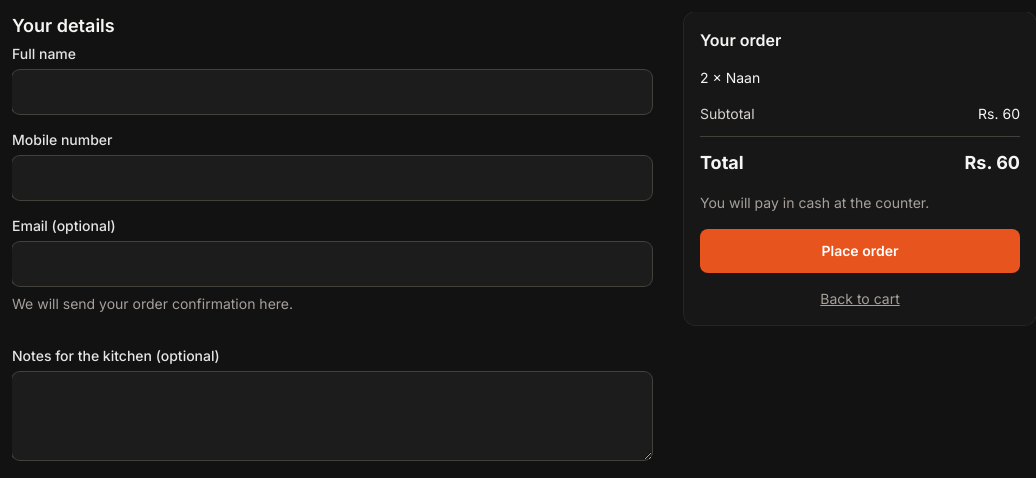
retrying safely › keeps the cart after a failure so nothing is lost
Expected: the button "Place order" is enabled, [700,229,1020,273]
Step 1. Type "Ali Khan" into the field labelled "Full name" → (332, 92), box [12,70,652,114]
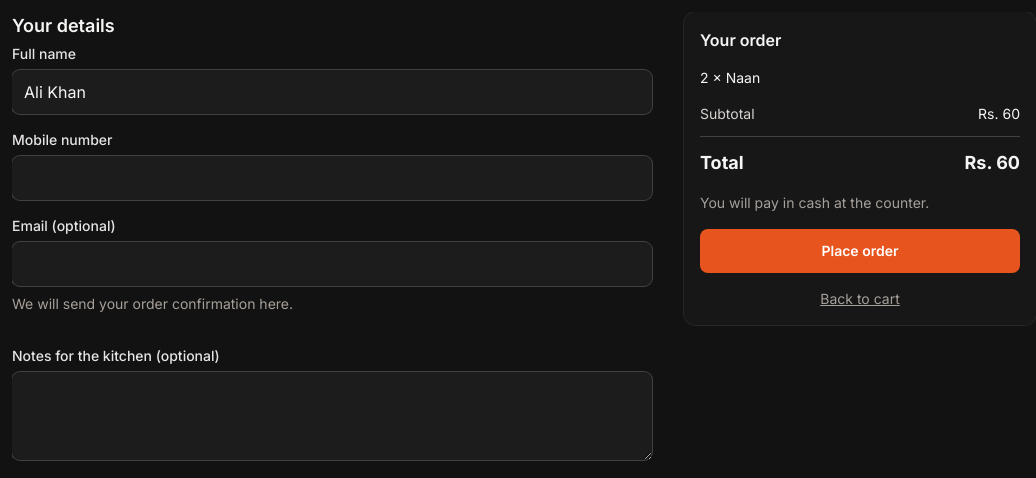
Step 2. Type "0300-123 4567" into the field labelled "Mobile number" → (332, 178), box [12,156,652,200]
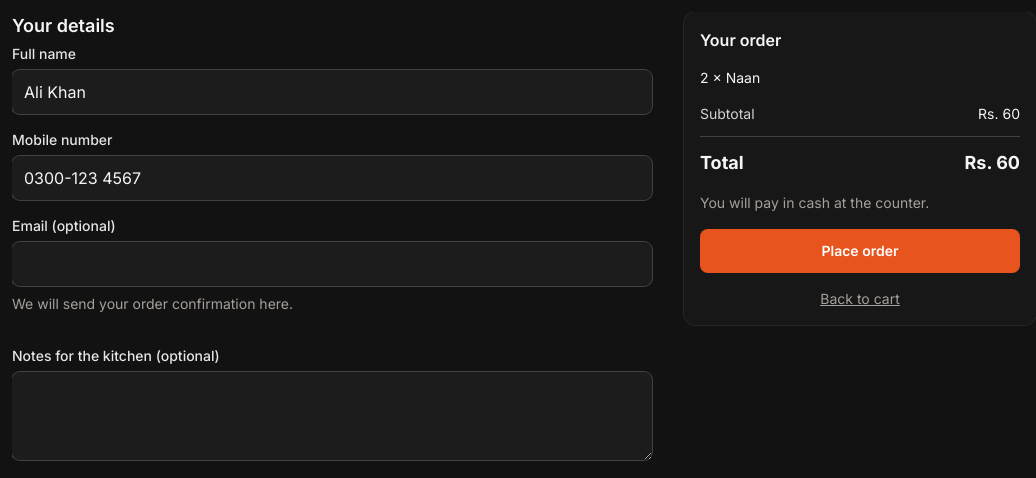
Step 3. Click the button "Place order" → click(860, 251), box [700,229,1020,273]
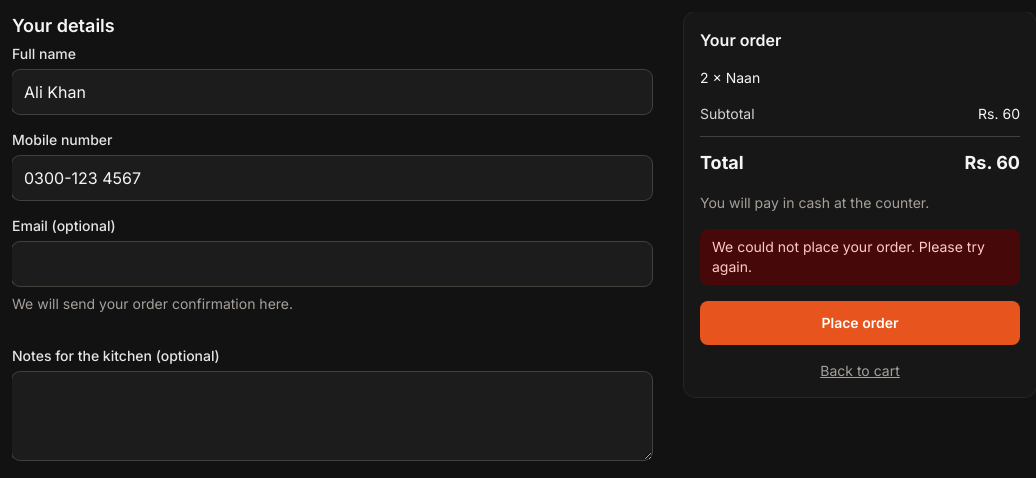
Expected: the text "We could not place your order. Please try again." is shown, [700,229,1020,285]
